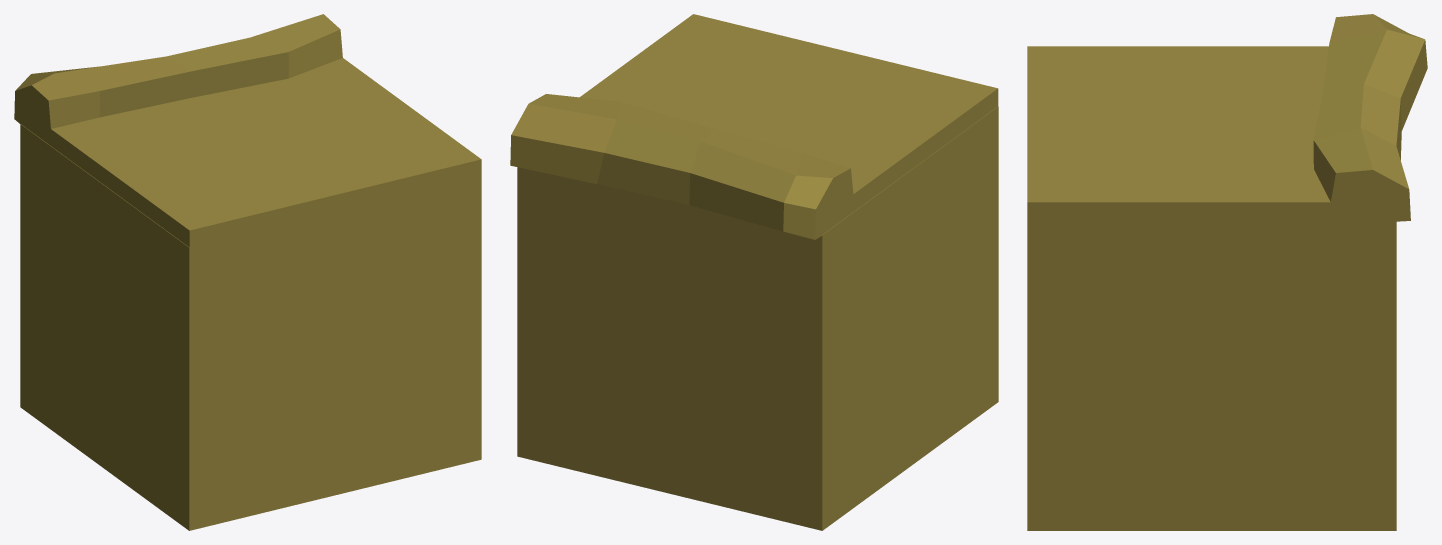
The model's file is Int_16_InnerWall_Block_2.fbx.
3 views of the same model, side by side, from view 1: azimuth 30°, elevation 25°; view 2: azimuth 150°, elevation 25°; view 3: azimuth 270°, elevation 25° (orthographic). The views are drawn at different scales.
Parts seen in each view (by area): view 1: Int_16_InnerWall_Block_2; view 2: Int_16_InnerWall_Block_2; view 3: Int_16_InnerWall_Block_2.
Part boxes in pixels (x1,y1,x2,y2): Int_16_InnerWall_Block_2: (14,14,481,530); Int_16_InnerWall_Block_2: (510,14,998,530); Int_16_InnerWall_Block_2: (1027,14,1427,530).
Bounding box in the file's own units: 1 × 1.08 × 1.08.
